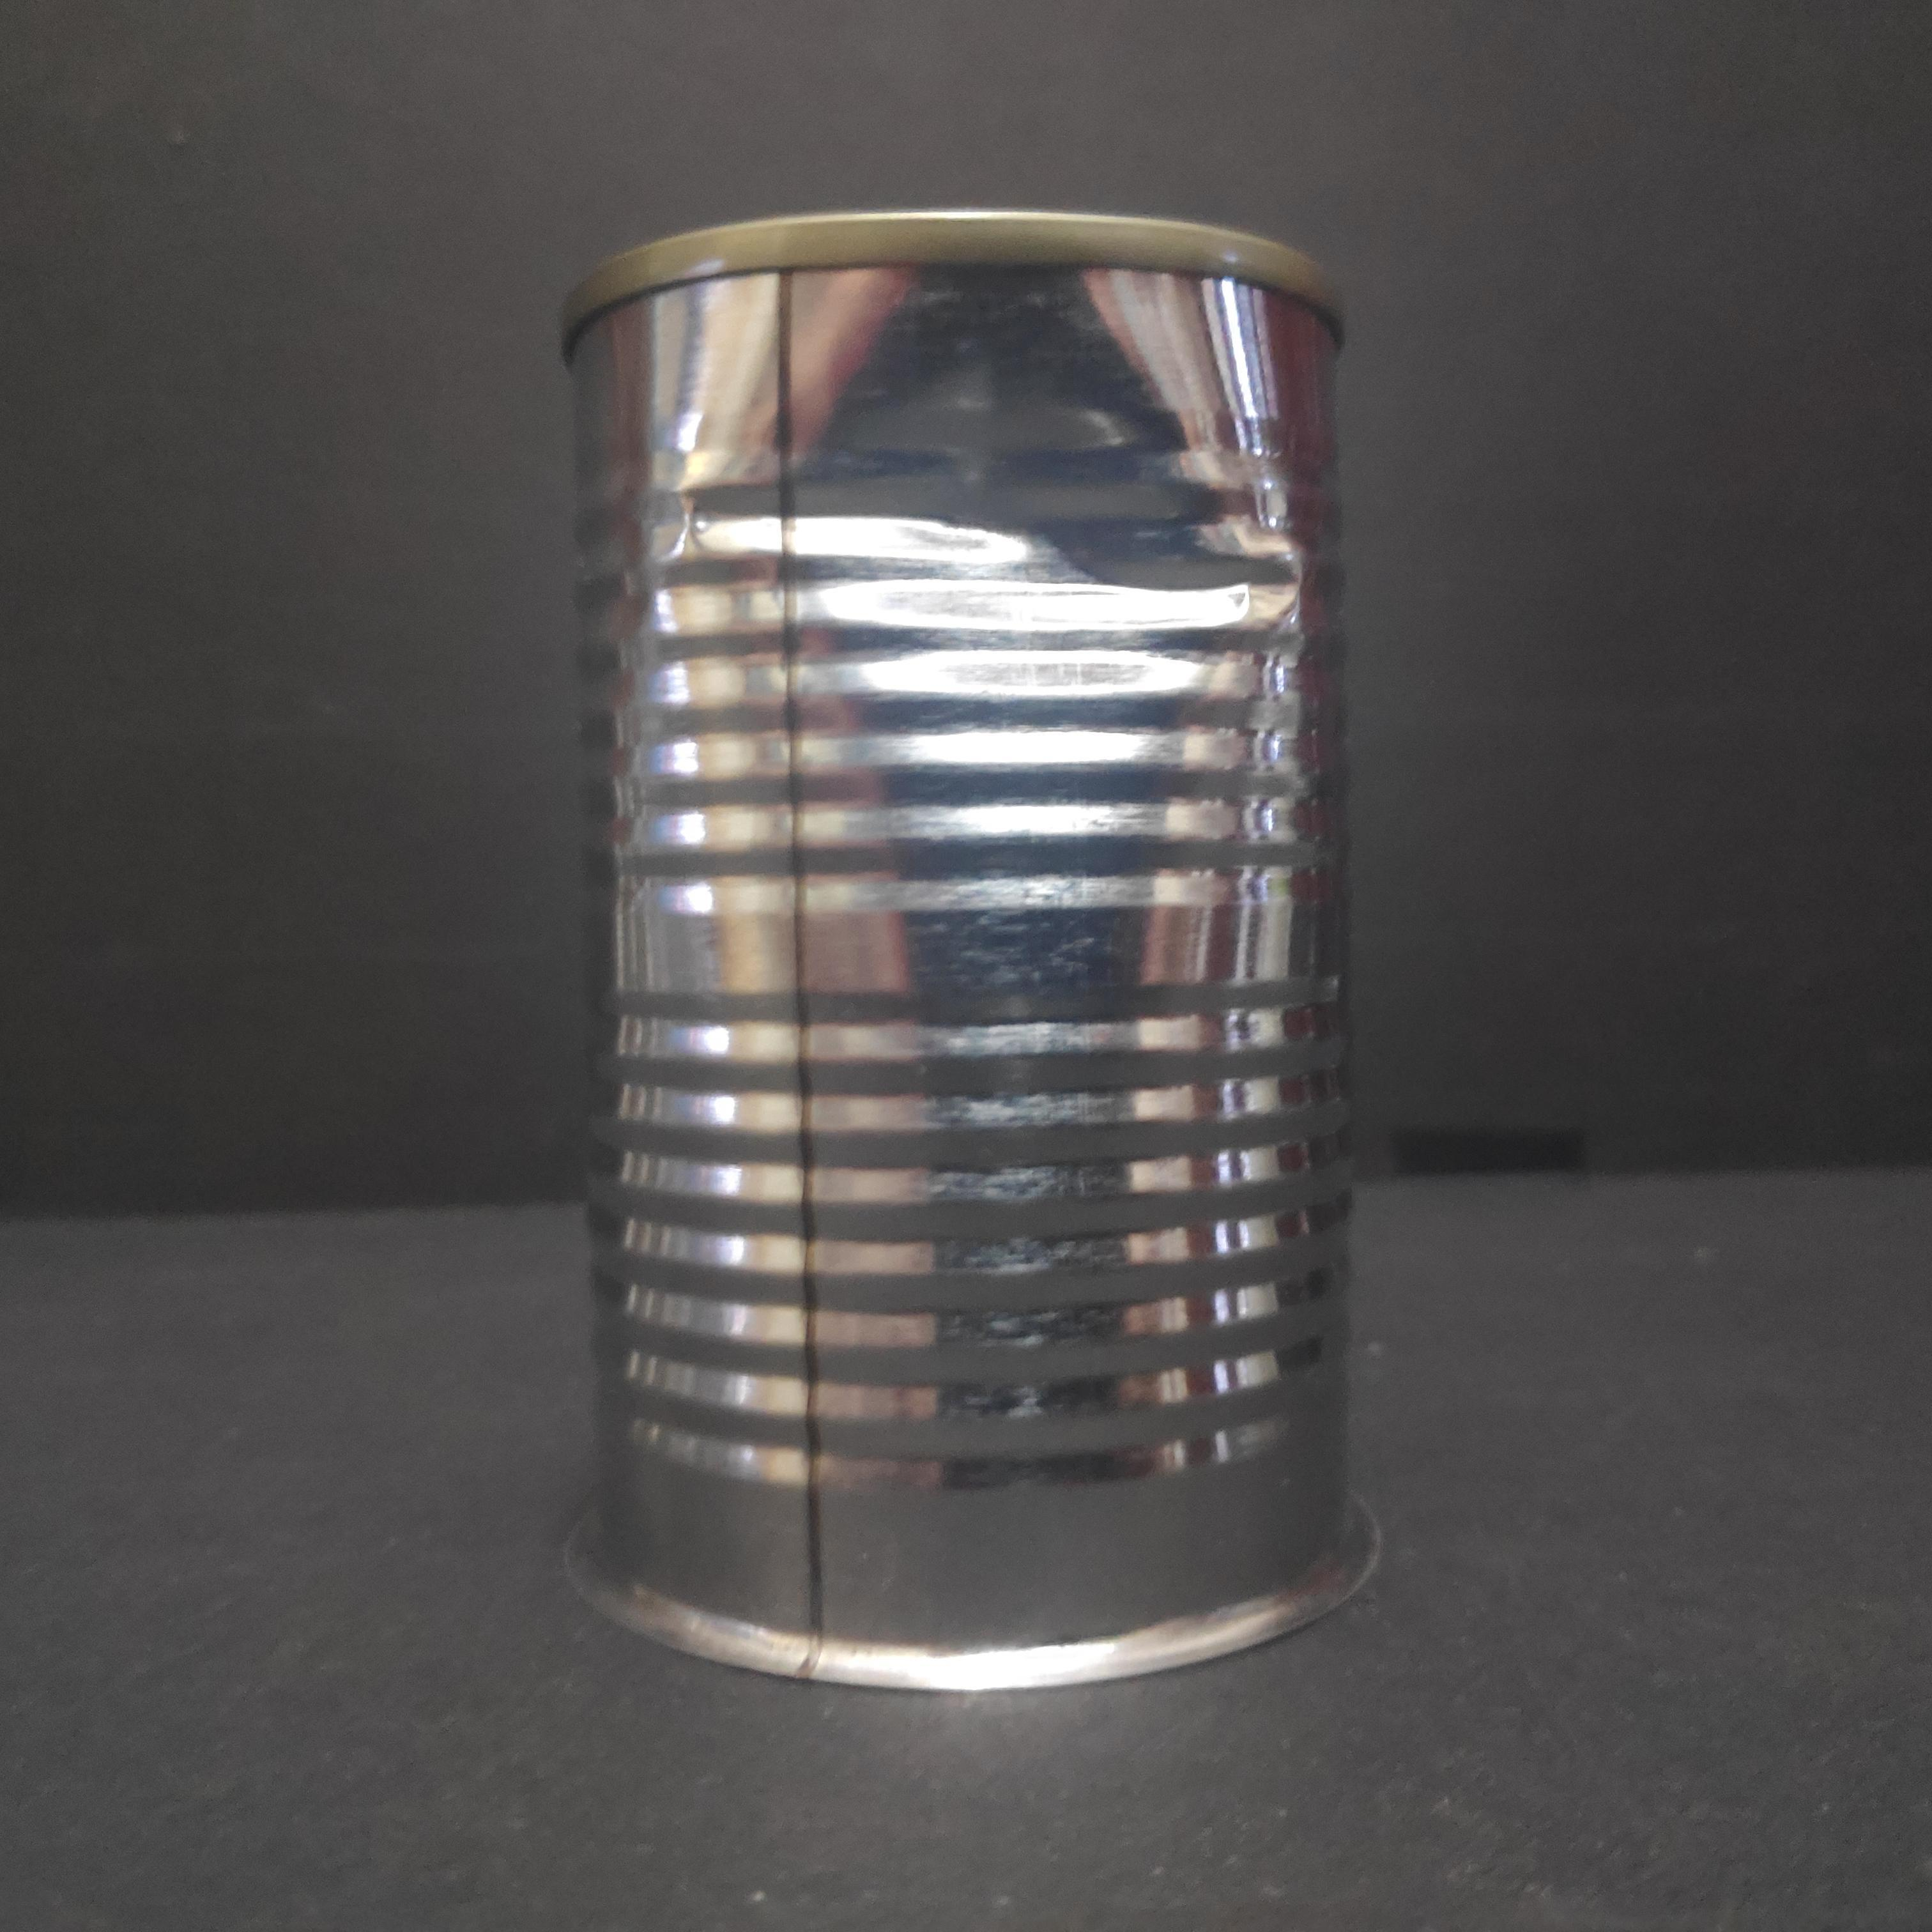Dented: (527, 182, 1403, 1706)
